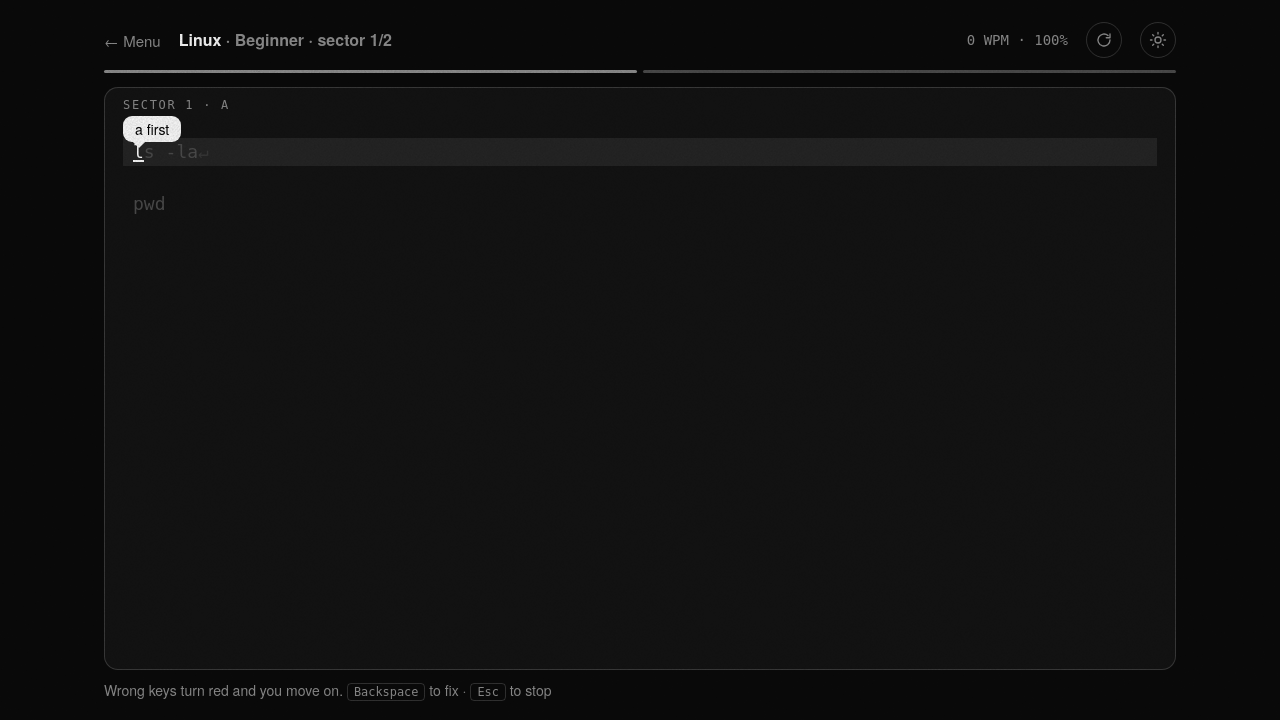
Test: SessionView › restart button › Esc closes the question without restarting
The image size is (1280, 720).
Press l
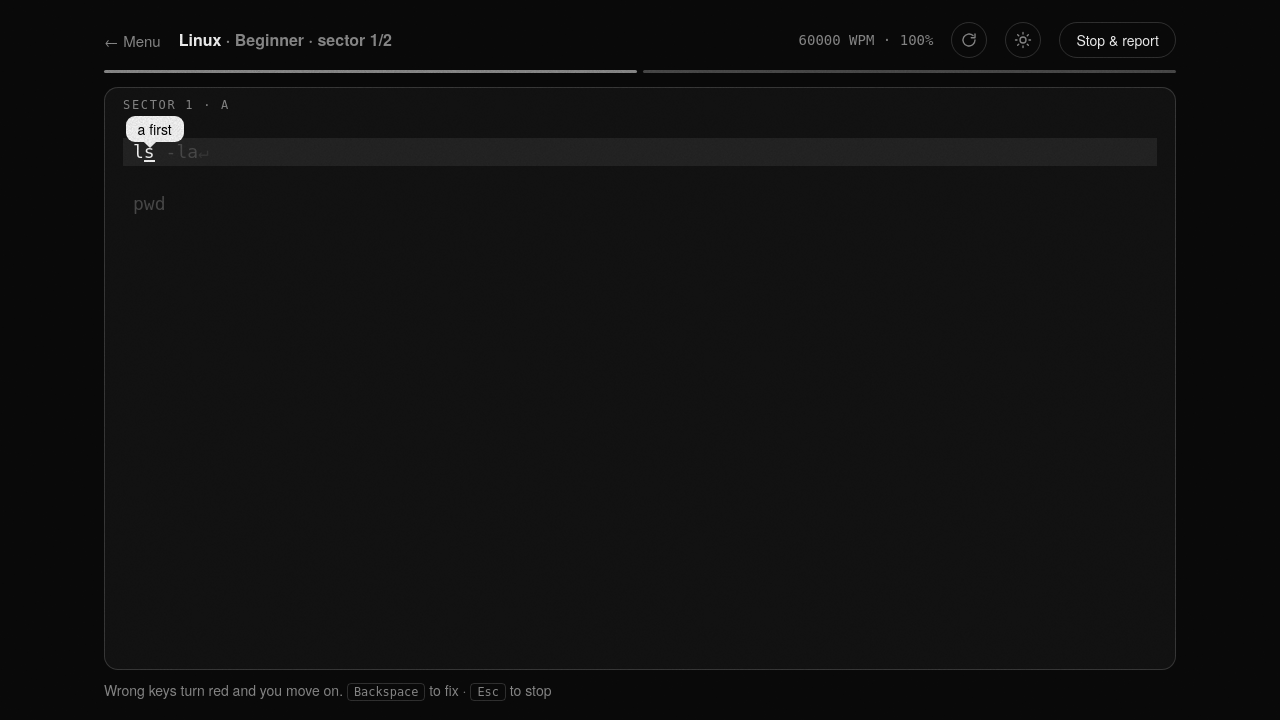
Press s
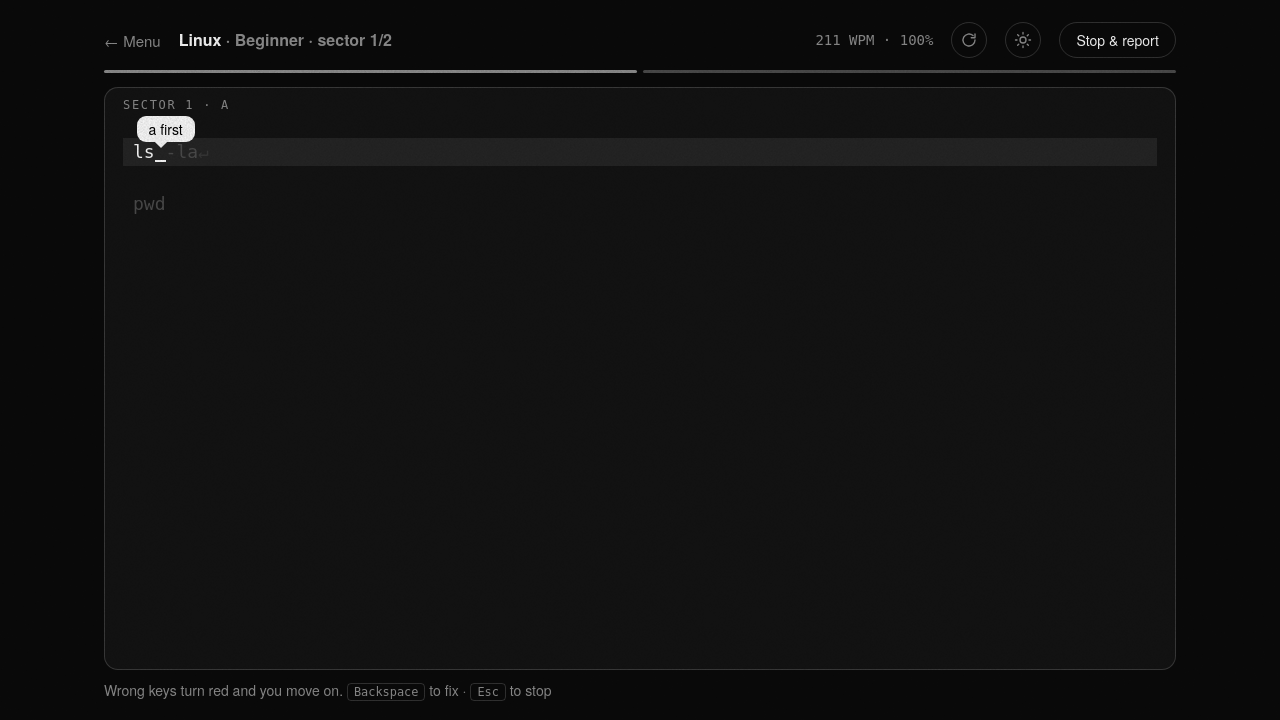
Click the button named "Restart with a new set" at x=969, y=40, box [951,22,987,58]
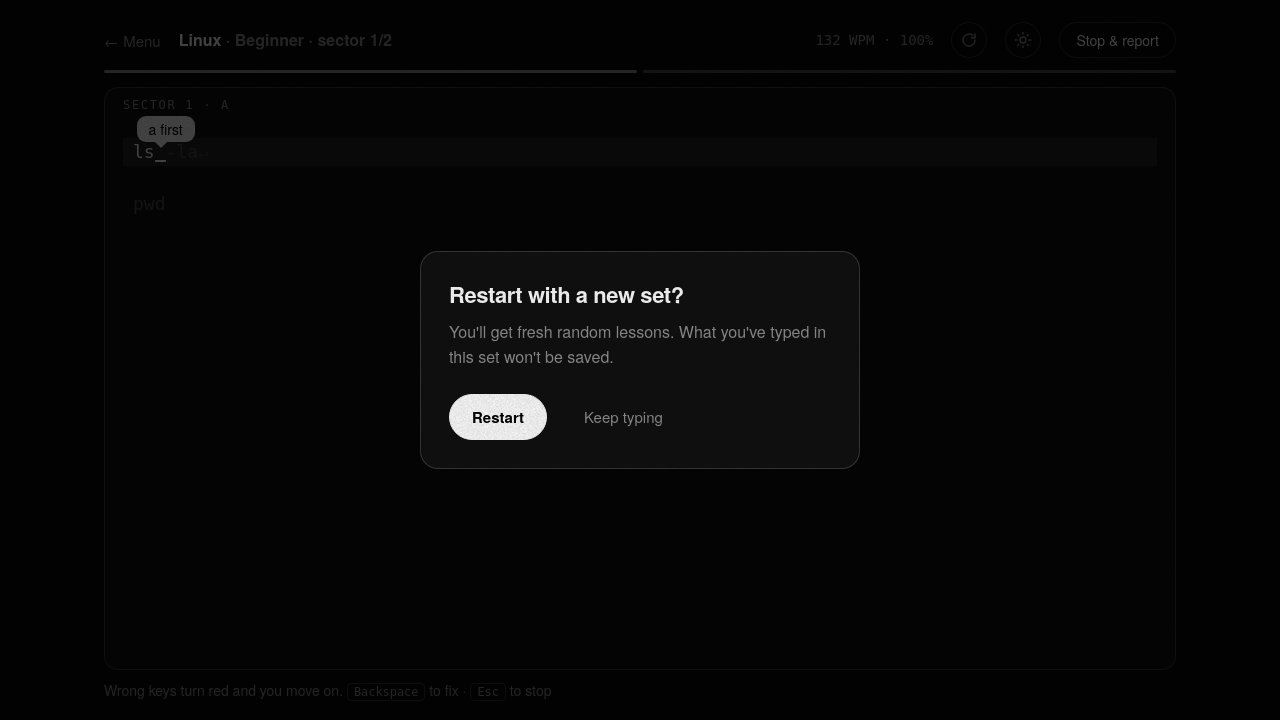
Press Escape
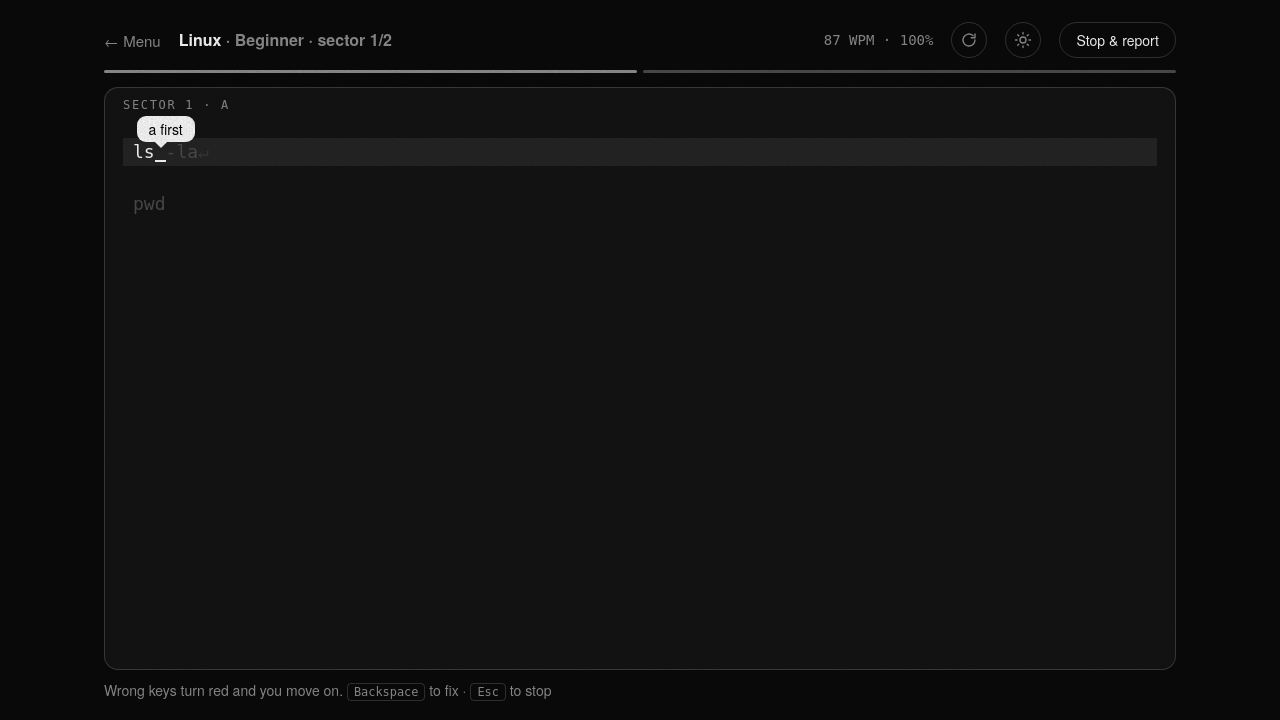
Now the dialog is gone
